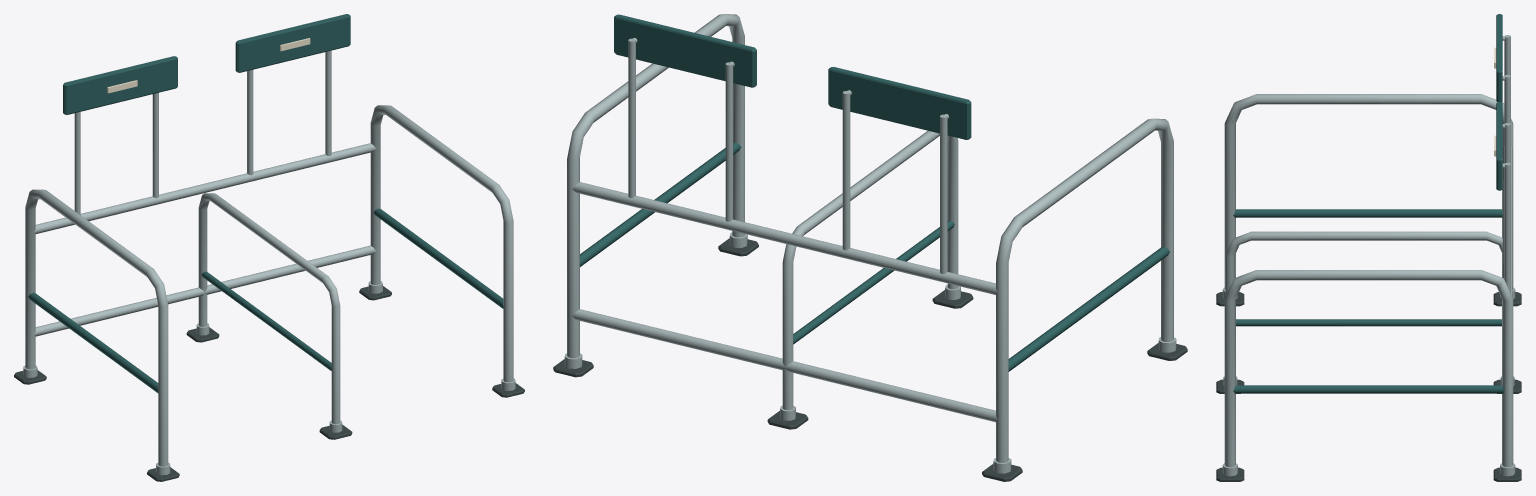
File: mall-cart-return-bay-lod2.glb
The picture shows the model from 3 angles, left to right: view 1: azimuth 30°, elevation 25°; view 2: azimuth 150°, elevation 25°; view 3: azimuth 270°, elevation 25°; orthographic projection. The views are drawn at different scales.
Parts seen in each view (by area): view 1: Rear_Brushed_rail_steel_LOD2, Rear_Deep_lagoon_enamel_LOD2, Left_Brushed_rail_steel_LOD2, Right_Brushed_rail_steel_LOD2, Divider_Brushed_rail_steel_LOD2, Left_Deep_lagoon_enamel_LOD2, Right_Deep_lagoon_enamel_LOD2, Divider_Deep_lagoon_enamel_LOD2, Divider_Graphite_sockets_and_bumpers_LOD2, Right_Graphite_sockets_and_bumpers_LOD2, Left_Graphite_sockets_and_bumpers_LOD2; view 2: Rear_Brushed_rail_steel_LOD2, Rear_Deep_lagoon_enamel_LOD2, Left_Brushed_rail_steel_LOD2, Right_Brushed_rail_steel_LOD2, Divider_Brushed_rail_steel_LOD2, Left_Deep_lagoon_enamel_LOD2, Right_Deep_lagoon_enamel_LOD2, Divider_Deep_lagoon_enamel_LOD2, Divider_Graphite_sockets_and_bumpers_LOD2, Left_Graphite_sockets_and_bumpers_LOD2, Right_Graphite_sockets_and_bumpers_LOD2; view 3: Right_Brushed_rail_steel_LOD2, Left_Brushed_rail_steel_LOD2, Divider_Brushed_rail_steel_LOD2, Right_Deep_lagoon_enamel_LOD2, Left_Deep_lagoon_enamel_LOD2, Rear_Brushed_rail_steel_LOD2, Divider_Deep_lagoon_enamel_LOD2, Rear_Deep_lagoon_enamel_LOD2, Right_Graphite_sockets_and_bumpers_LOD2, Left_Graphite_sockets_and_bumpers_LOD2, Divider_Graphite_sockets_and_bumpers_LOD2.
Part boxes in pixels (left/top/right/bottom): Rear_Brushed_rail_steel_LOD2: left=34, top=50, right=376, bottom=336; Rear_Deep_lagoon_enamel_LOD2: left=63, top=14, right=350, bottom=114; Left_Brushed_rail_steel_LOD2: left=23, top=189, right=170, bottom=475; Right_Brushed_rail_steel_LOD2: left=368, top=105, right=515, bottom=390; Divider_Brushed_rail_steel_LOD2: left=196, top=193, right=342, bottom=432; Left_Deep_lagoon_enamel_LOD2: left=28, top=292, right=158, bottom=393; Right_Deep_lagoon_enamel_LOD2: left=373, top=208, right=503, bottom=308; Divider_Deep_lagoon_enamel_LOD2: left=201, top=271, right=331, bottom=370; Divider_Graphite_sockets_and_bumpers_LOD2: left=186, top=327, right=352, bottom=439; Right_Graphite_sockets_and_bumpers_LOD2: left=359, top=286, right=524, bottom=397; Left_Graphite_sockets_and_bumpers_LOD2: left=14, top=370, right=179, bottom=481; Rear_Brushed_rail_steel_LOD2: left=572, top=38, right=997, bottom=422; Rear_Deep_lagoon_enamel_LOD2: left=614, top=14, right=971, bottom=139; Left_Brushed_rail_steel_LOD2: left=993, top=118, right=1176, bottom=473; Right_Brushed_rail_steel_LOD2: left=564, top=14, right=747, bottom=368; Divider_Brushed_rail_steel_LOD2: left=780, top=130, right=960, bottom=420; Left_Deep_lagoon_enamel_LOD2: left=1008, top=247, right=1170, bottom=371; Right_Deep_lagoon_enamel_LOD2: left=579, top=142, right=741, bottom=266; Divider_Deep_lagoon_enamel_LOD2: left=793, top=220, right=954, bottom=344; Divider_Graphite_sockets_and_bumpers_LOD2: left=767, top=290, right=973, bottom=429; Left_Graphite_sockets_and_bumpers_LOD2: left=982, top=343, right=1187, bottom=481; Right_Graphite_sockets_and_bumpers_LOD2: left=553, top=238, right=758, bottom=377; Right_Brushed_rail_steel_LOD2: left=1222, top=270, right=1515, bottom=476; Left_Brushed_rail_steel_LOD2: left=1222, top=94, right=1515, bottom=298; Divider_Brushed_rail_steel_LOD2: left=1223, top=231, right=1514, bottom=385; Right_Deep_lagoon_enamel_LOD2: left=1233, top=385, right=1504, bottom=393; Left_Deep_lagoon_enamel_LOD2: left=1233, top=209, right=1502, bottom=217; Rear_Brushed_rail_steel_LOD2: left=1502, top=35, right=1512, bottom=296; Divider_Deep_lagoon_enamel_LOD2: left=1236, top=319, right=1501, bottom=326; Rear_Deep_lagoon_enamel_LOD2: left=1496, top=14, right=1502, bottom=190; Right_Graphite_sockets_and_bumpers_LOD2: left=1216, top=467, right=1521, bottom=481; Left_Graphite_sockets_and_bumpers_LOD2: left=1216, top=292, right=1521, bottom=306; Divider_Graphite_sockets_and_bumpers_LOD2: left=1216, top=379, right=1521, bottom=393.
Bounding box in the file's own units: 1.6 × 1.2 × 1.1.
